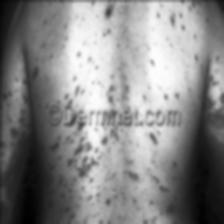Non-Cancerous Skin Condition: (54, 137, 181, 224), (37, 0, 147, 100), (0, 66, 32, 224), (202, 83, 224, 135)
